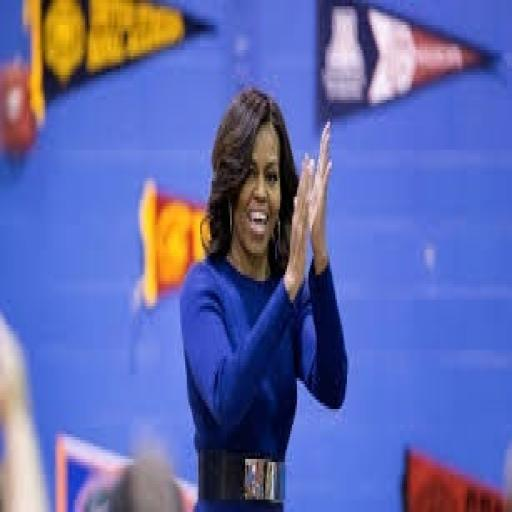clapping: (176, 81, 348, 506)
